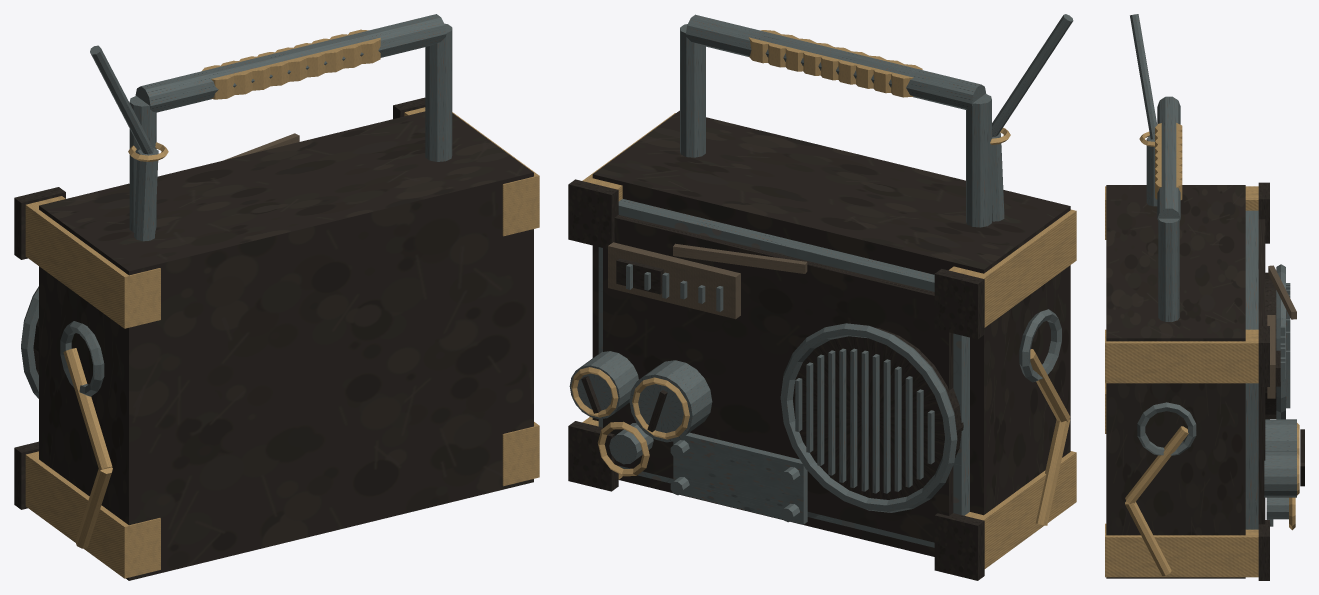
File: pr-005_portable_radio__broken.obj
3 views of the same model, side by side, from view 1: azimuth 30°, elevation 25°; view 2: azimuth 150°, elevation 25°; view 3: azimuth 270°, elevation 25° (orthographic). The views are drawn at different scales.
Parts seen in each view (by area): view 1: pr-005_portable_radio__broken; view 2: pr-005_portable_radio__broken; view 3: pr-005_portable_radio__broken.
Part boxes in pixels (box(x1,y1,x2,y2)): pr-005_portable_radio__broken: box(14, 14, 539, 580); pr-005_portable_radio__broken: box(568, 14, 1076, 580); pr-005_portable_radio__broken: box(1105, 14, 1304, 580).
Bounding box in the file's own units: 0.8452 × 0.965 × 0.4295.
4 materials, 4 textured.
